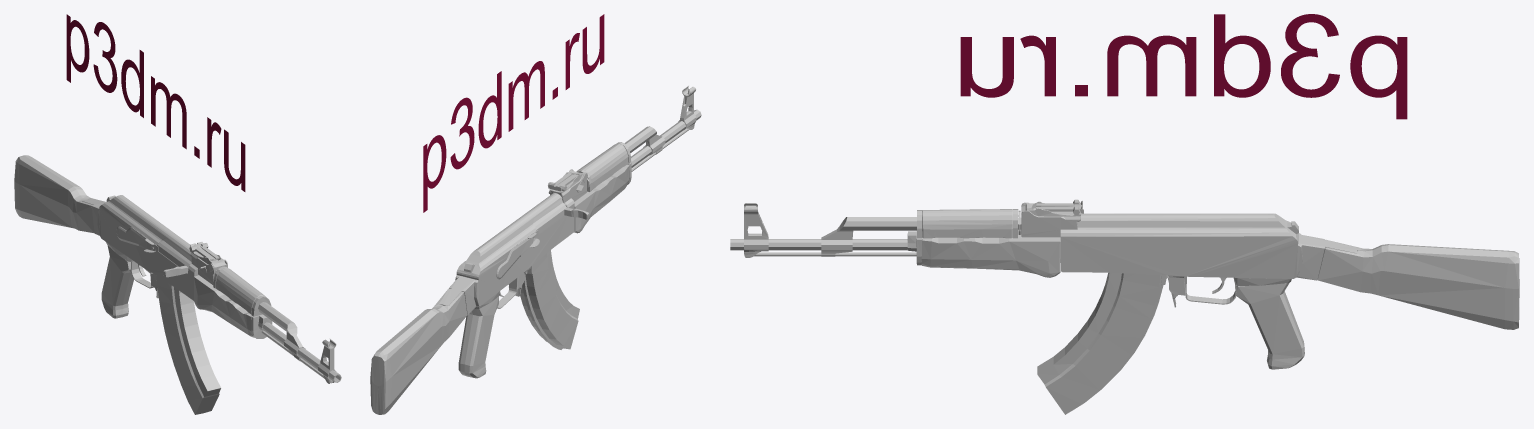
The picture shows the model from 3 angles, left to right: view 1: azimuth 30°, elevation 25°; view 2: azimuth 150°, elevation 25°; view 3: azimuth 270°, elevation 25°; orthographic projection. The views are drawn at different scales.
Parts seen in each view (by area): view 1: sk_wp_AK47_01, Text001; view 2: sk_wp_AK47_01, Text001; view 3: sk_wp_AK47_01, Text001.
Part boxes in pixels (<box>): sk_wp_AK47_01: <box>14,155,341,414</box>; Text001: <box>66,14,245,191</box>; sk_wp_AK47_01: <box>370,85,701,414</box>; Text001: <box>423,14,604,212</box>; sk_wp_AK47_01: <box>730,199,1519,414</box>; Text001: <box>960,14,1407,119</box>.
Bounding box in the file's own units: 2.09 × 14.01 × 25.23.
